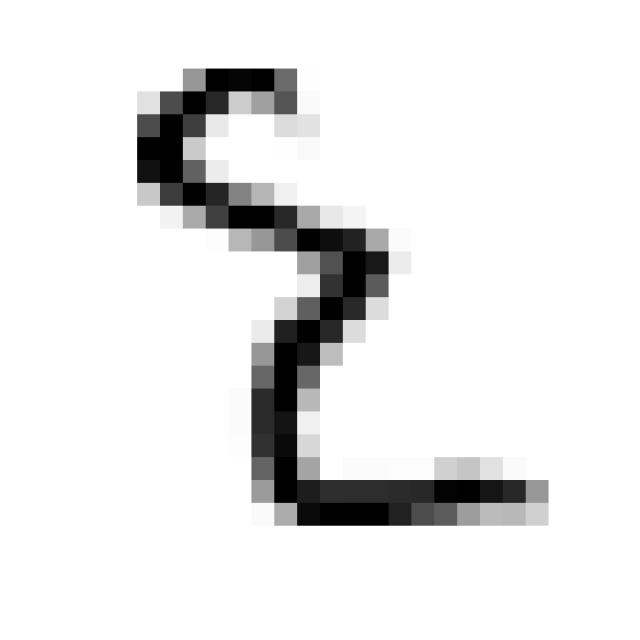4 -four-: (124, 46, 569, 557)
